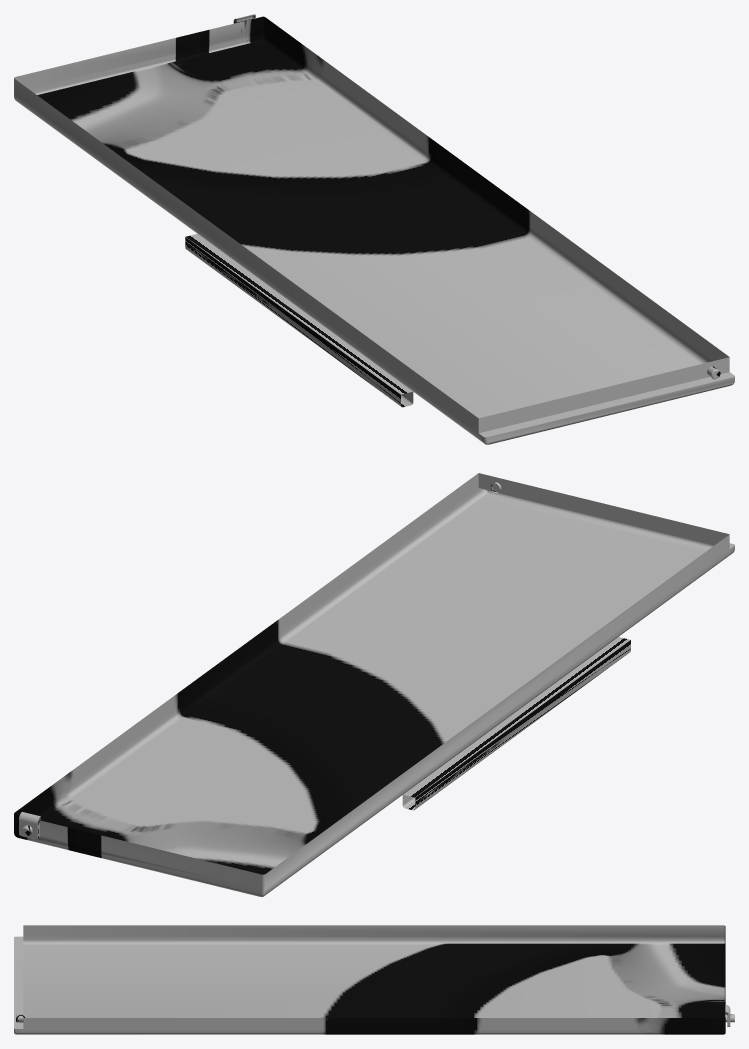
File: Fridge_Door_B_3.obj
3 renders of one model, top to bottom at view 1: azimuth 30°, elevation 25°; view 2: azimuth 150°, elevation 25°; view 3: azimuth 270°, elevation 25°, orthographic. The views are drawn at different scales.
Bounding box in the file's own units: 0.5074 × 0.1172 × 1.67.
